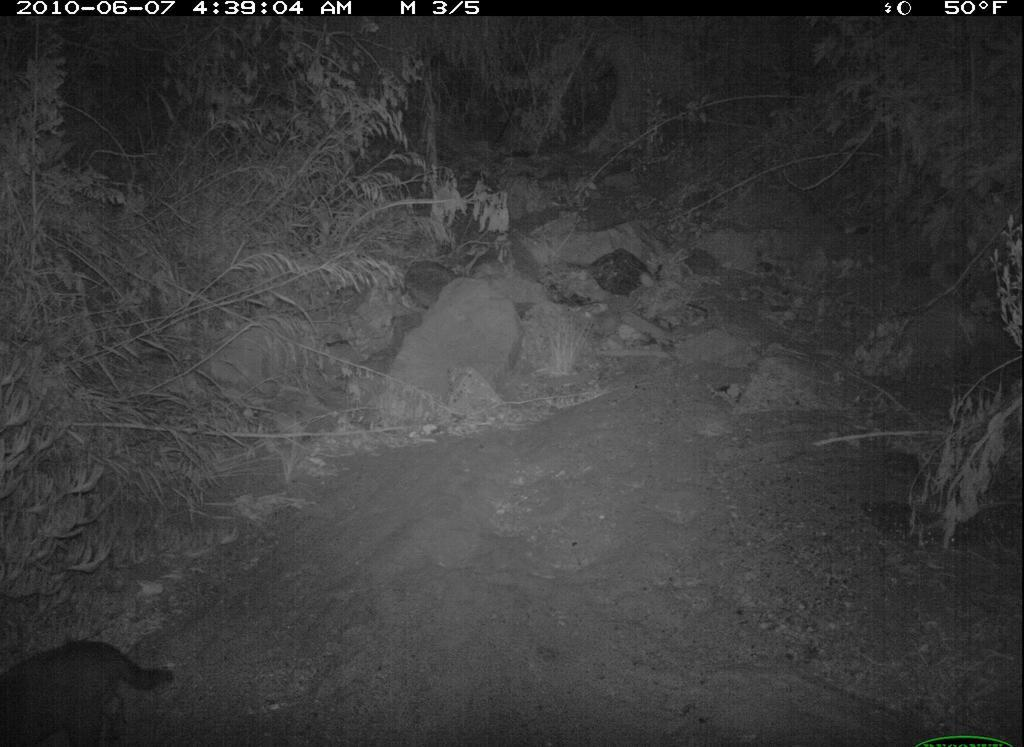cat: (2, 614, 175, 744)
